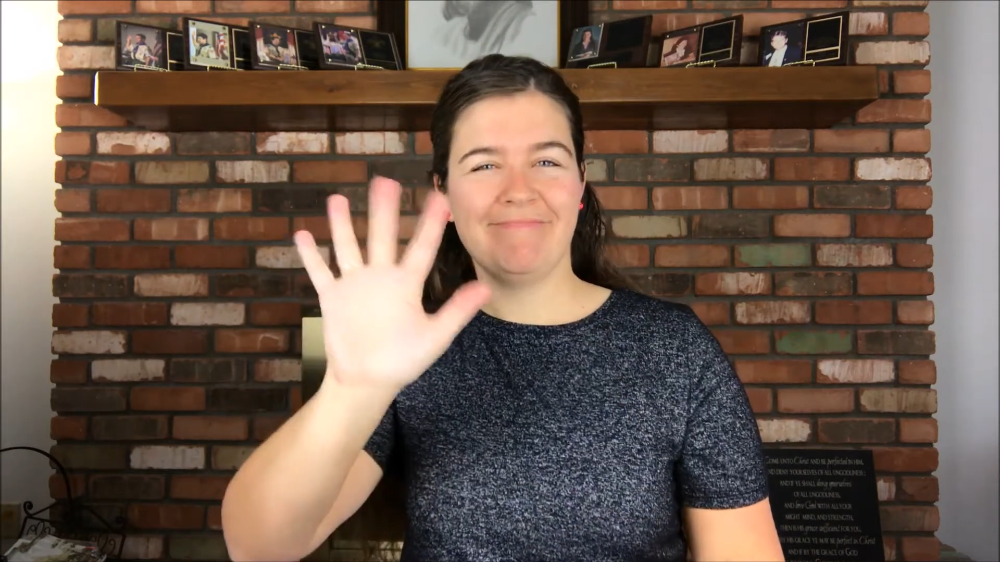hello: (288, 178, 490, 390)
